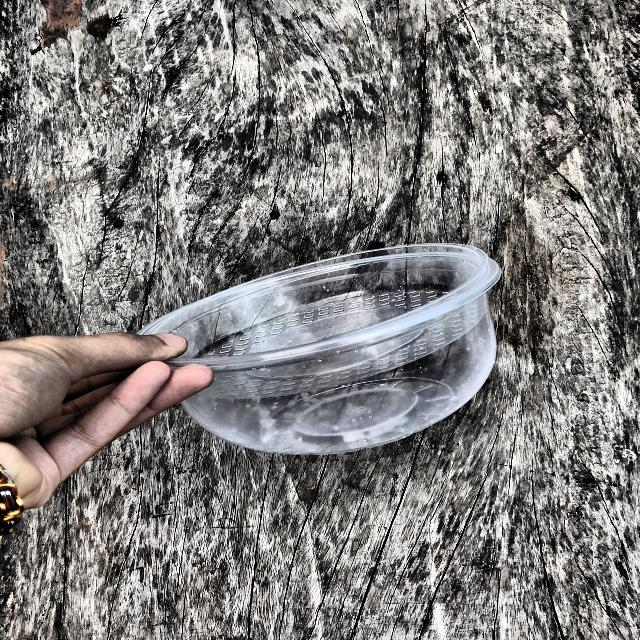plastic container: (99, 228, 526, 499)
